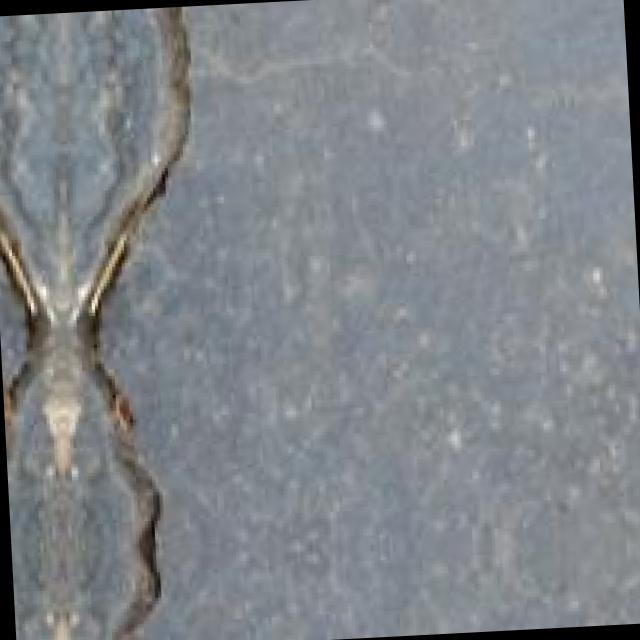crack: (0, 3, 279, 640)
